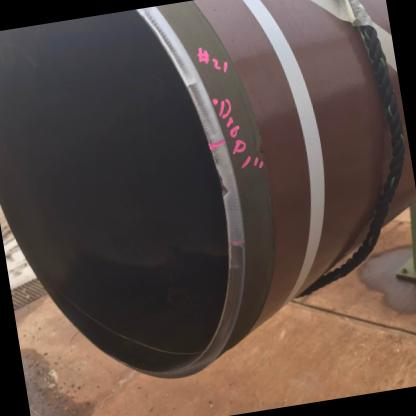Bevel: (210, 172, 234, 204)
